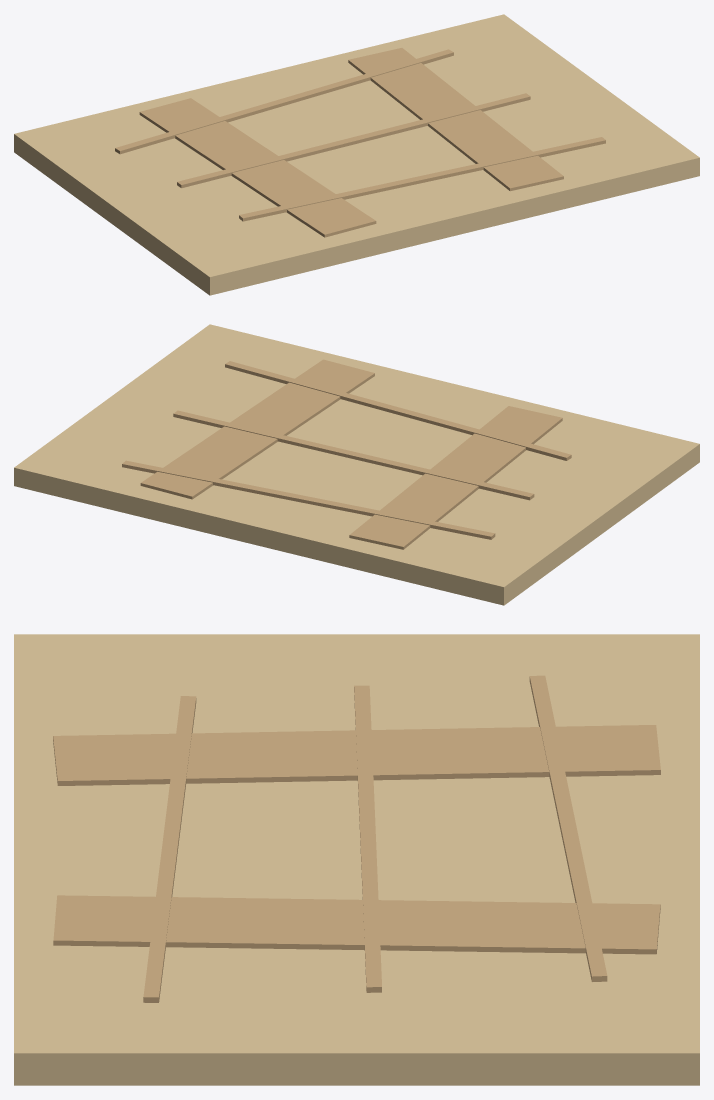
File: track_sand_2lane.glb
The picture shows the model from 3 angles, top to bottom: view 1: azimuth 30°, elevation 25°; view 2: azimuth 150°, elevation 25°; view 3: azimuth 270°, elevation 25°; orthographic projection. The views are drawn at different scales.
Parts seen in each view (by area): view 1: track_sand_2lane; view 2: track_sand_2lane; view 3: track_sand_2lane.
Part boxes in pixels (x1,y1,x2,y2): track_sand_2lane: [14, 14, 699, 295]; track_sand_2lane: [14, 324, 699, 605]; track_sand_2lane: [14, 634, 699, 1085].
Bounding box in the file's own units: 4.45 × 0.197 × 3.08.
